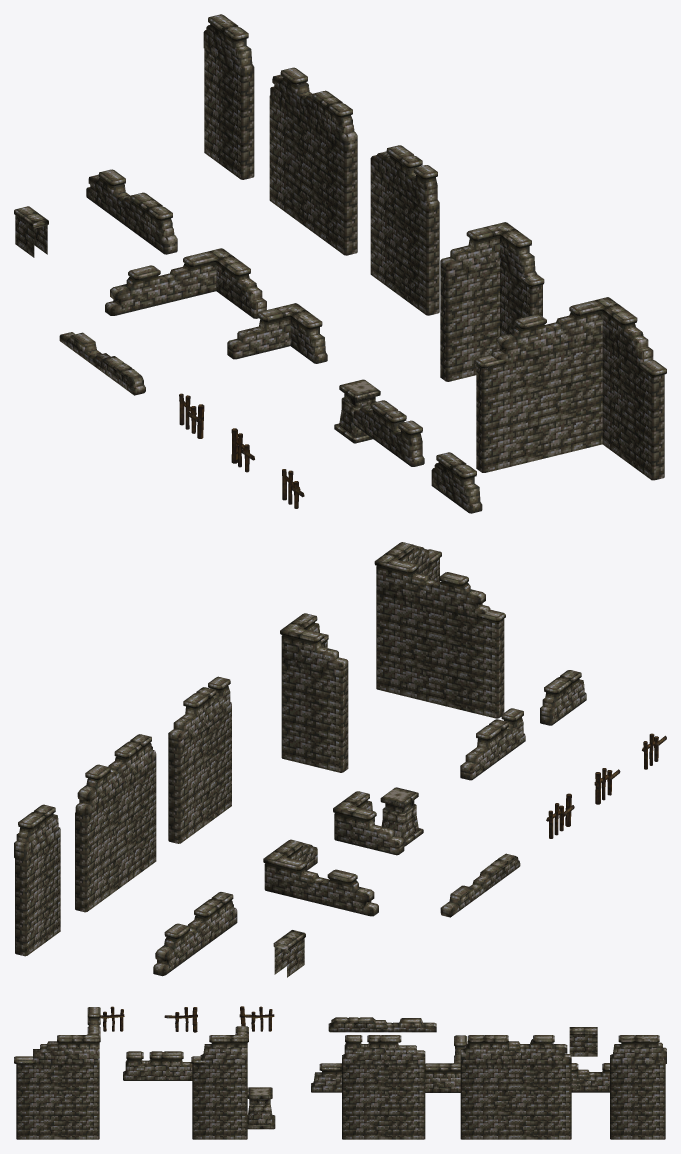
The model's file is EnvMdrMD_River_A_Fence_A_Corner_L.FBX.
3 renders of one model, top to bottom at view 1: azimuth 30°, elevation 25°; view 2: azimuth 150°, elevation 25°; view 3: azimuth 270°, elevation 25°, orthographic. The views are drawn at different scales.
Visible parts, largest first — view 1: EnvMdrMD_River_A_Fence_A_Corner_L_H4, EnvMdrMD_River_A_Fence_A_Line_L_H4, EnvMdrMD_River_A_Fence_A_Corner_M_H4, EnvMdrMD_River_A_Fence_A_Line_M_H4, EnvMdrMD_River_A_Fence_A_Line_S_H4, EnvMdrMD_River_A_Fence_A_Corner_L, EnvMdrMD_River_A_Fence_A_Corner_M, EnvMdrMD_River_A_Fence_A_Line_L, EnvMdrMD_River_A_Fence_A_Line_M, EnvMdrMD_River_A_Fence_A_Line_S, EnvMdrMD_River_A_Fence_A_Spline_A, EnvMdrMD_River_A_Fence_A_Lantern_A (+2 smaller); view 2: EnvMdrMD_River_A_Fence_A_Corner_L_H4, EnvMdrMD_River_A_Fence_A_Line_L_H4, EnvMdrMD_River_A_Fence_A_Corner_M_H4, EnvMdrMD_River_A_Fence_A_Line_M_H4, EnvMdrMD_River_A_Fence_A_Line_S_H4, EnvMdrMD_River_A_Fence_A_Corner_L, EnvMdrMD_River_A_Fence_A_Line_L, EnvMdrMD_River_A_Fence_A_Corner_M, EnvMdrMD_River_A_Fence_A_Line_M, EnvMdrMD_River_A_Fence_A_Line_S, EnvMdrMD_River_A_Fence_A_Lantern_A, EnvMdrMD_River_A_Fence_A_Spline_A (+2 smaller); view 3: EnvMdrMD_River_A_Fence_A_Line_L_H4, EnvMdrMD_River_A_Fence_A_Corner_L_H4, EnvMdrMD_River_A_Fence_A_Line_M_H4, EnvMdrMD_River_A_Fence_A_Corner_M_H4, EnvMdrMD_River_A_Fence_A_Line_S_H4, EnvMdrMD_River_A_Fence_A_Line_M, EnvMdrMD_River_A_Fence_A_Spline_A, EnvMdrMD_River_A_Fence_A_Corner_L, EnvMdrMD_River_A_Fence_A_Lantern_A, EnvMdrMD_River_A_Fence_A_Line_L, EnvMdrMD_River_A_Fence_A_Loop_A, EnvMdrMD_River_A_Fence_A_Corner_M (+3 smaller).
Boxes of the visible parts, x1,y1,x2,y2 form: EnvMdrMD_River_A_Fence_A_Corner_L_H4: [474, 297, 666, 480]; EnvMdrMD_River_A_Fence_A_Line_L_H4: [269, 67, 357, 255]; EnvMdrMD_River_A_Fence_A_Corner_M_H4: [440, 222, 544, 381]; EnvMdrMD_River_A_Fence_A_Line_M_H4: [370, 145, 439, 315]; EnvMdrMD_River_A_Fence_A_Line_S_H4: [203, 14, 254, 179]; EnvMdrMD_River_A_Fence_A_Corner_L: [105, 248, 266, 318]; EnvMdrMD_River_A_Fence_A_Corner_M: [227, 303, 327, 363]; EnvMdrMD_River_A_Fence_A_Line_L: [86, 169, 177, 254]; EnvMdrMD_River_A_Fence_A_Line_M: [353, 400, 424, 466]; EnvMdrMD_River_A_Fence_A_Line_S: [431, 452, 482, 513]; EnvMdrMD_River_A_Fence_A_Spline_A: [59, 332, 145, 395]; EnvMdrMD_River_A_Fence_A_Lantern_A: [334, 379, 380, 443]; EnvMdrMD_River_A_Fence_A_Corner_L_H4: [374, 542, 505, 718]; EnvMdrMD_River_A_Fence_A_Line_L_H4: [75, 734, 156, 912]; EnvMdrMD_River_A_Fence_A_Corner_M_H4: [280, 613, 348, 772]; EnvMdrMD_River_A_Fence_A_Line_M_H4: [168, 676, 231, 843]; EnvMdrMD_River_A_Fence_A_Line_S_H4: [14, 804, 60, 956]; EnvMdrMD_River_A_Fence_A_Corner_L: [263, 839, 378, 916]; EnvMdrMD_River_A_Fence_A_Line_L: [153, 892, 237, 976]; EnvMdrMD_River_A_Fence_A_Corner_M: [333, 791, 404, 855]; EnvMdrMD_River_A_Fence_A_Line_M: [460, 708, 525, 780]; EnvMdrMD_River_A_Fence_A_Line_S: [540, 670, 586, 725]; EnvMdrMD_River_A_Fence_A_Lantern_A: [380, 787, 423, 846]; EnvMdrMD_River_A_Fence_A_Spline_A: [440, 853, 520, 917]; EnvMdrMD_River_A_Fence_A_Line_L_H4: [460, 1035, 571, 1139]; EnvMdrMD_River_A_Fence_A_Corner_L_H4: [14, 1007, 100, 1139]; EnvMdrMD_River_A_Fence_A_Line_M_H4: [342, 1035, 425, 1139]; EnvMdrMD_River_A_Fence_A_Corner_M_H4: [191, 1026, 248, 1139]; EnvMdrMD_River_A_Fence_A_Line_S_H4: [610, 1035, 666, 1139]; EnvMdrMD_River_A_Fence_A_Line_M: [123, 1051, 192, 1080]; EnvMdrMD_River_A_Fence_A_Spline_A: [328, 1017, 436, 1032]; EnvMdrMD_River_A_Fence_A_Corner_L: [425, 1035, 467, 1092]; EnvMdrMD_River_A_Fence_A_Lantern_A: [247, 1087, 275, 1129]; EnvMdrMD_River_A_Fence_A_Line_L: [571, 1063, 609, 1092]; EnvMdrMD_River_A_Fence_A_Loop_A: [569, 1027, 597, 1056]; EnvMdrMD_River_A_Fence_A_Corner_M: [311, 1063, 341, 1092].
Bounding box in the file's own units: 955 × 530 × 2354.
Materials: 2 (2 with a texture image).
